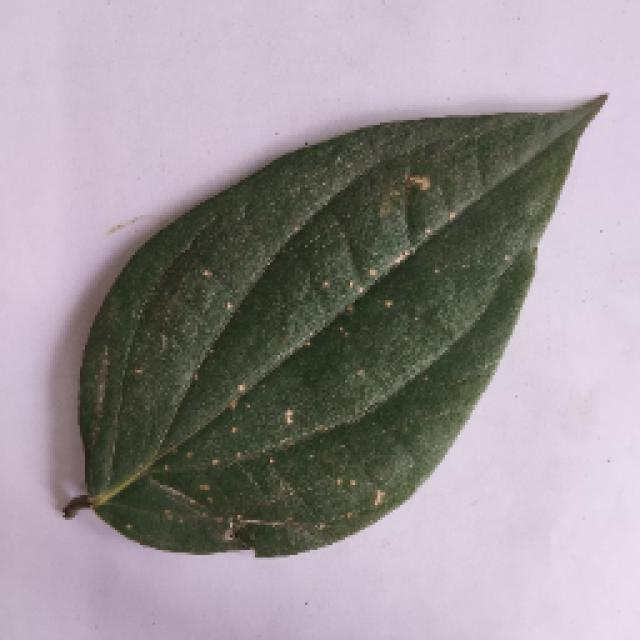pollu-disease: (48, 103, 612, 565)
